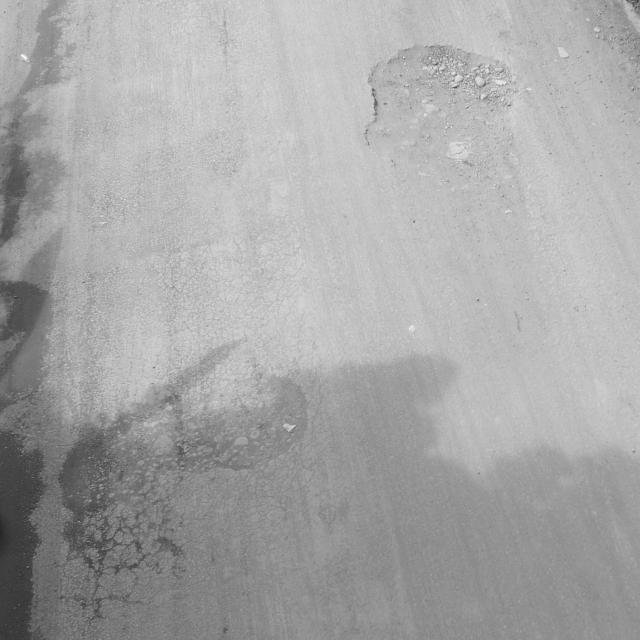BACHE: (367, 46, 519, 167), (172, 364, 307, 472), (60, 417, 179, 518)
PIEL DE COCODRILO: (203, 406, 354, 605), (150, 208, 323, 381), (58, 504, 199, 635), (187, 2, 256, 105)
